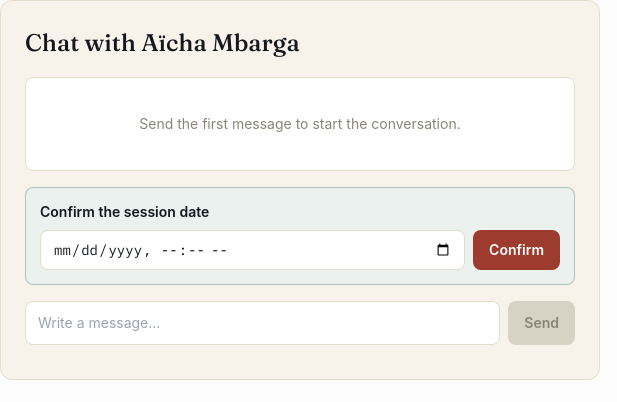
Chat › shows an inline retry affordance when sending a message fails, and retrying succeeds
This screenshot has width=617, height=402.
Type "Salut" into the field with placeholder "Write a message…". click: {"x": 263, "y": 323}
box: [25,301,500,345]
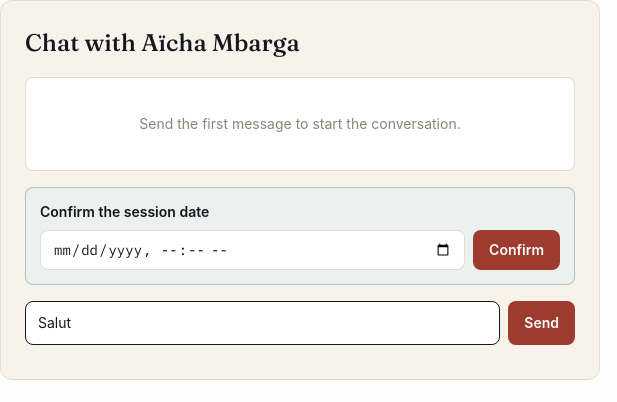
Click the button "Send". click: {"x": 542, "y": 323}
box: [508,301,575,345]
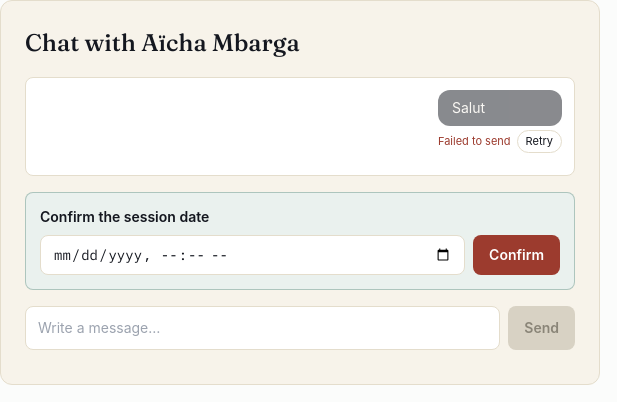
Now the text "Failed to send" is shown, box [438,133,511,150]
Click the button "Retry". click: {"x": 539, "y": 141}
box: [517,130,562,152]
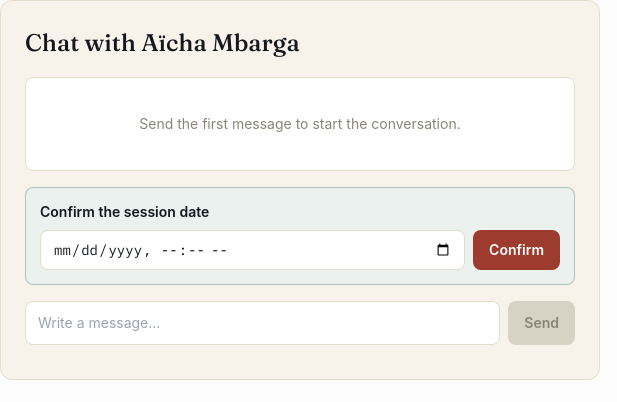
Now the text "Failed to send" is gone
